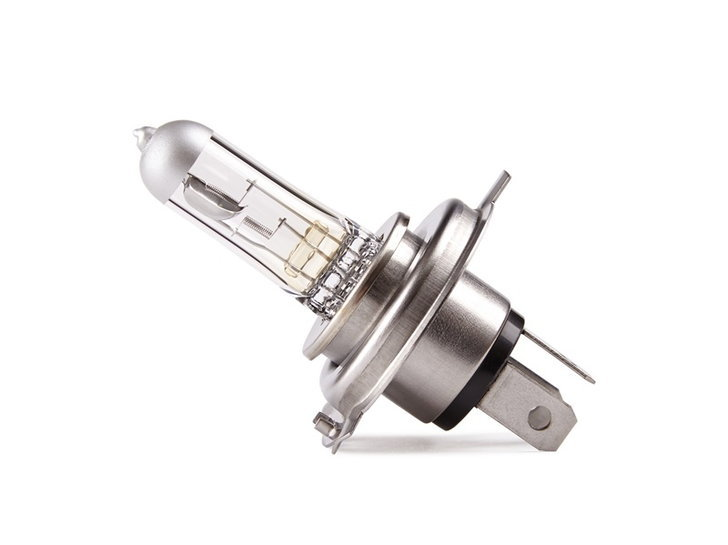Light_bulb: (135, 118, 593, 464)
